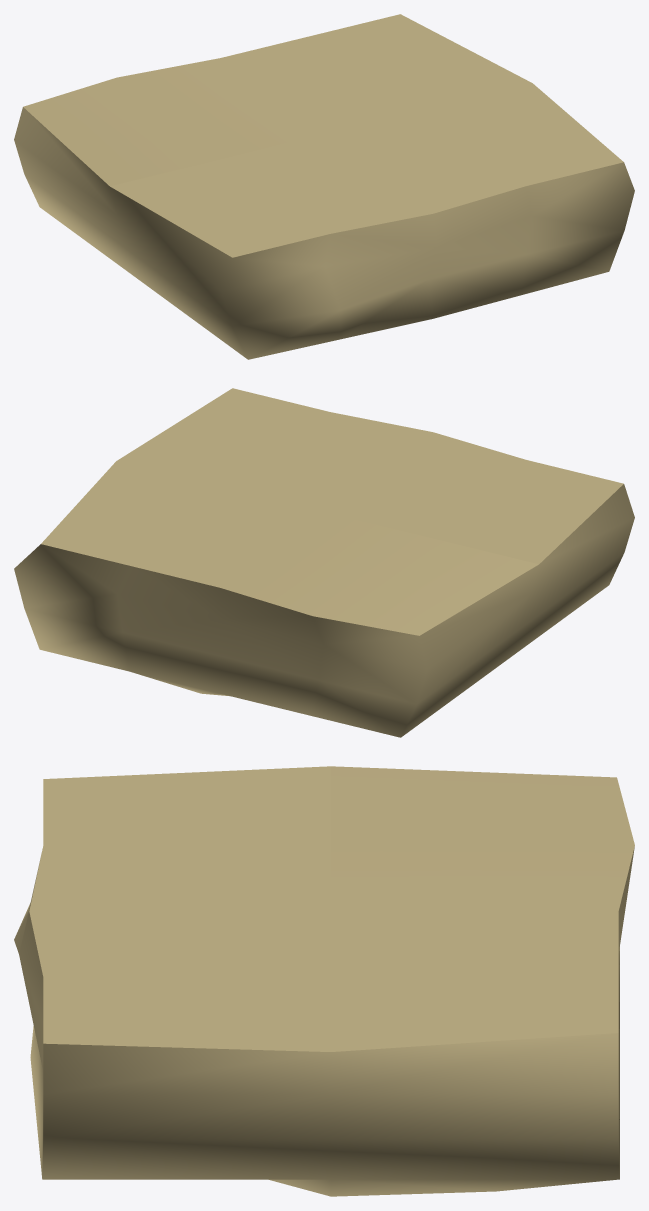
Rendered from island.dae.
3 renders of one model, top to bottom at view 1: azimuth 30°, elevation 25°; view 2: azimuth 150°, elevation 25°; view 3: azimuth 270°, elevation 25°, orthographic. The views are drawn at different scales.
Visible parts, largest first — view 1: island; view 2: island; view 3: island.
Boxes of the visible parts, x1=… form: island: x1=14, y1=14, x2=634, y2=359; island: x1=14, y1=388, x2=634, y2=737; island: x1=14, y1=766, x2=634, y2=1196.
Size of the model in its own units: 13.24 by 5.25 by 12.15.
